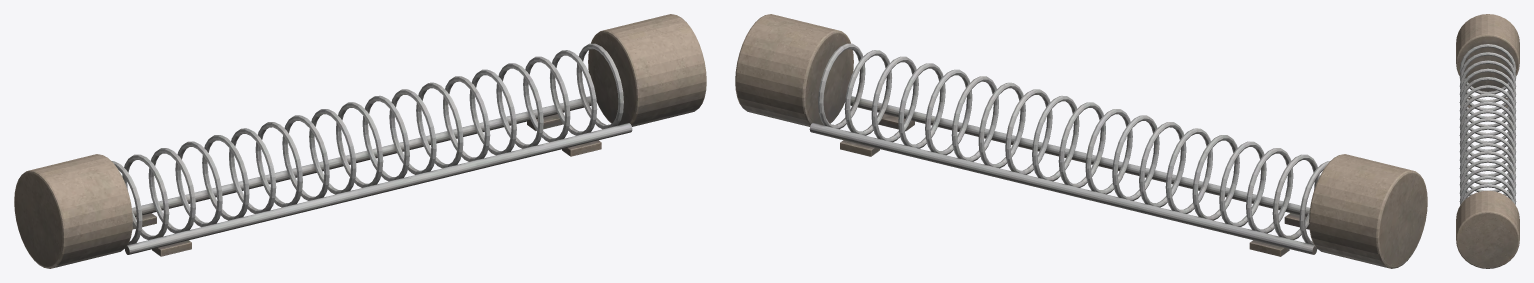
Rendered from strAsset_05.glb.
3 views of the same model, side by side, from view 1: azimuth 30°, elevation 25°; view 2: azimuth 150°, elevation 25°; view 3: azimuth 270°, elevation 25° (orthographic). The views are drawn at different scales.
Visible parts, largest first — view 1: geometry_0; view 2: geometry_0; view 3: geometry_0.
Boxes of the visible parts, x1,y1,x2,y2 form: geometry_0: (14,14,706,268); geometry_0: (735,14,1427,268); geometry_0: (1456,14,1519,268).
Bounding box in the file's own units: 0.5226 × 0.0711 × 0.0711.
1 material, 1 textured.
